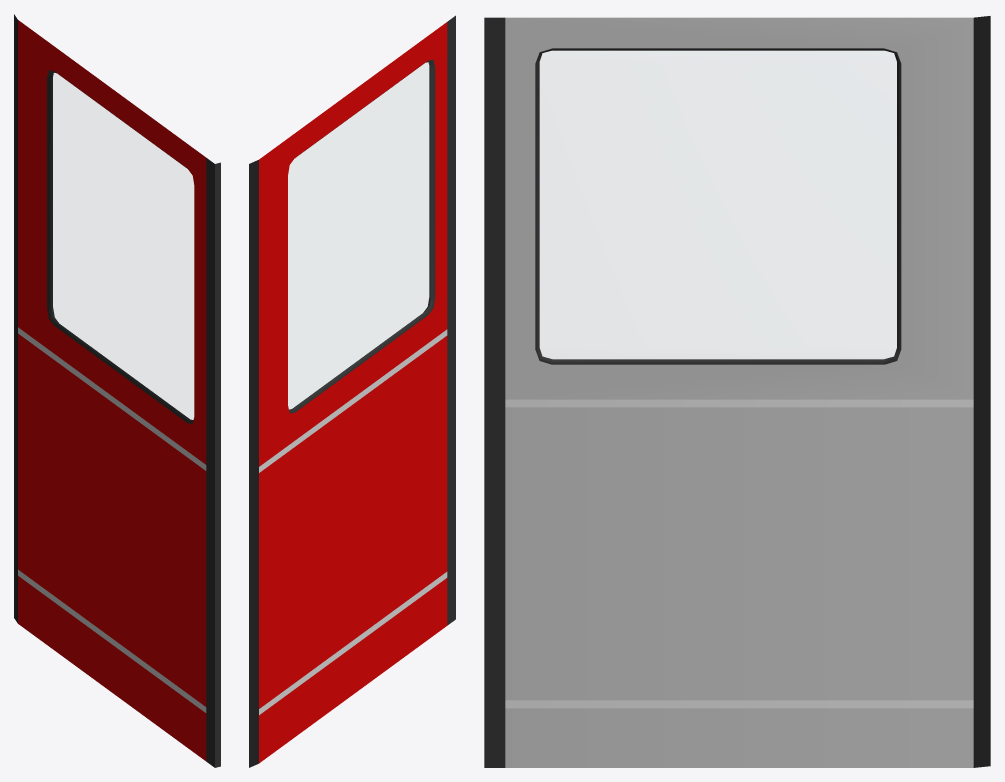
Rendered from PocketDoor.glb.
3 renders of one model, left to right at view 1: azimuth 30°, elevation 25°; view 2: azimuth 150°, elevation 25°; view 3: azimuth 270°, elevation 25°, orthographic. The views are drawn at different scales.
Visible parts, largest first — view 1: 側面L-中扉; view 2: 側面L-中扉; view 3: 側面L-中扉.
Part boxes in pixels (box(x1,y1,x2,y2)): 側面L-中扉: box(14, 14, 220, 767); 側面L-中扉: box(249, 15, 455, 767); 側面L-中扉: box(484, 16, 990, 767).
Bounding box in the file's own units: 0.02 × 1.95 × 1.19.
6 materials, 1 textured.
